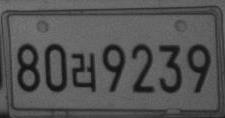0: (44, 42, 67, 92)
2: (130, 43, 155, 93)
3: (158, 44, 183, 93)
8: (16, 43, 41, 93)
9: (186, 43, 211, 92), (101, 43, 125, 91)
러: (71, 52, 96, 92)
